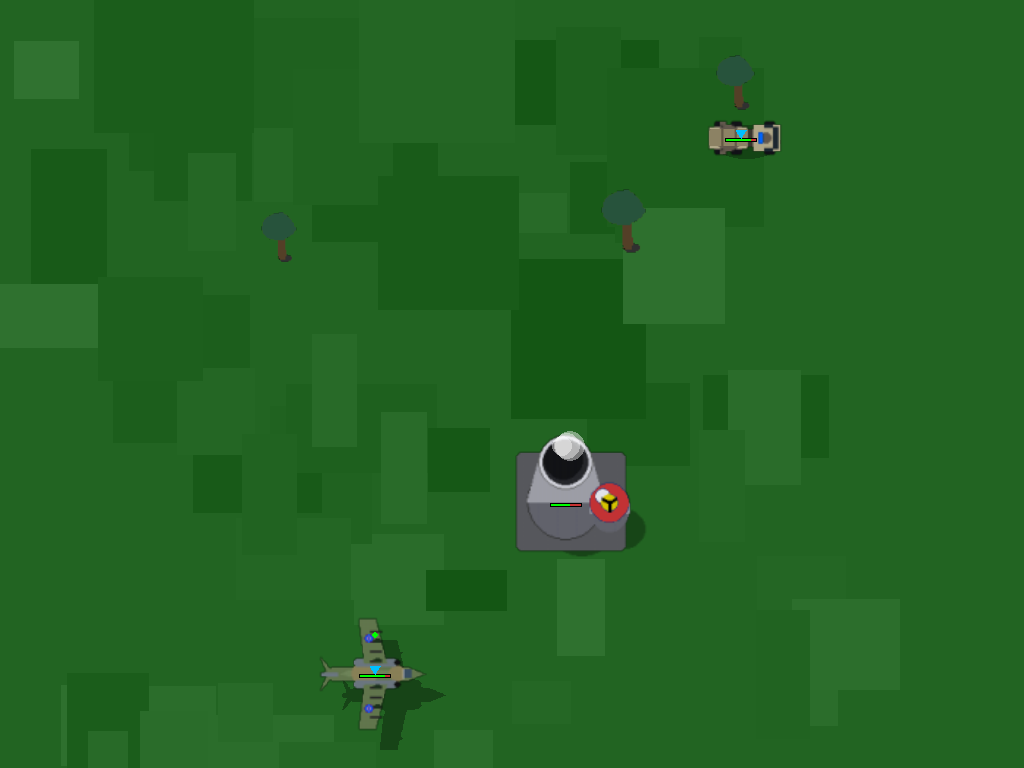AttackPlane_rus: (342, 639, 408, 705)
HIMARS: (708, 103, 774, 169)
PowerPlant: (521, 458, 609, 546)
